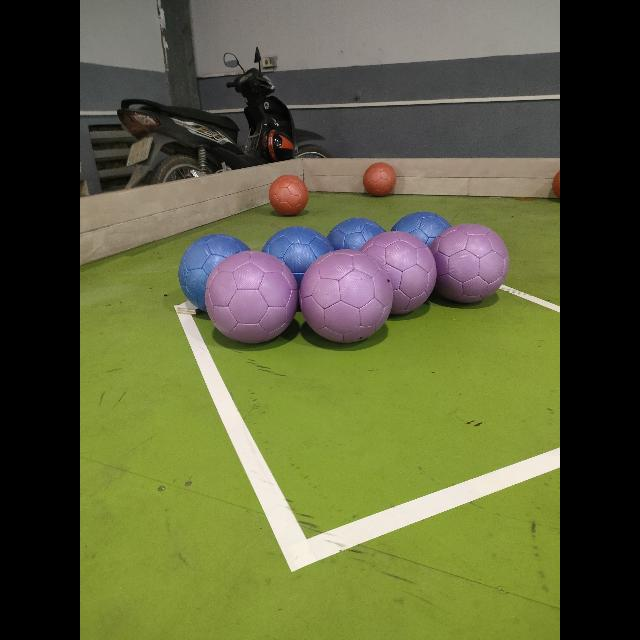B: (180, 234, 250, 310), (262, 225, 334, 292), (328, 218, 384, 276), (391, 212, 451, 264)
P: (205, 251, 298, 343), (300, 250, 392, 342), (355, 230, 435, 312), (430, 224, 508, 302)
R: (269, 175, 309, 215), (364, 162, 396, 195), (552, 170, 560, 198)
